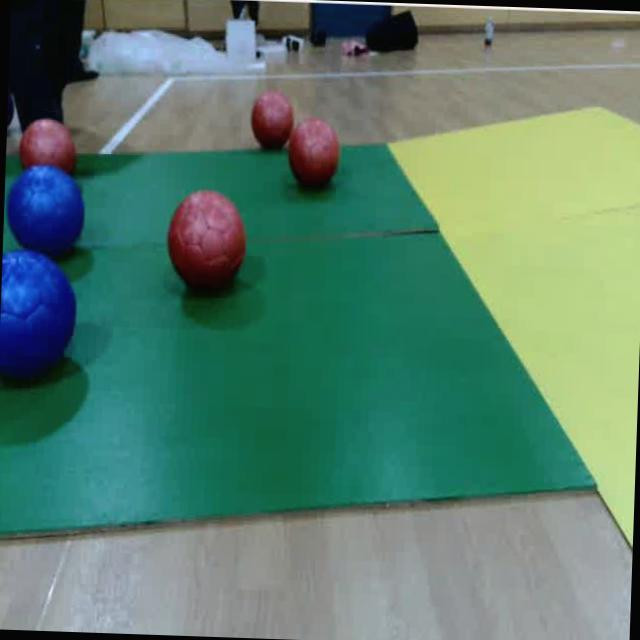blue_ball: (0, 249, 78, 386), (2, 164, 86, 255)
red_ball: (164, 186, 251, 302), (286, 116, 342, 192), (15, 116, 80, 166), (249, 91, 293, 152)
